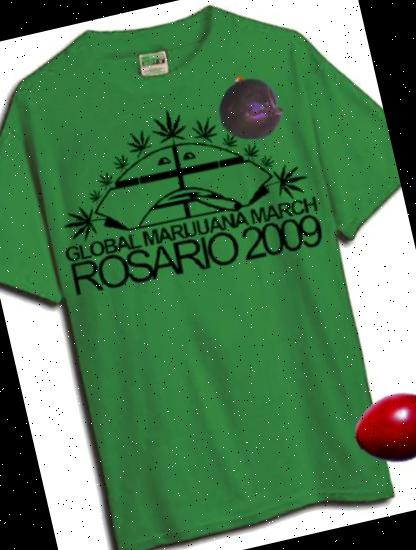Passion: (209, 69, 289, 149)
Tamarillo: (345, 370, 416, 482)
